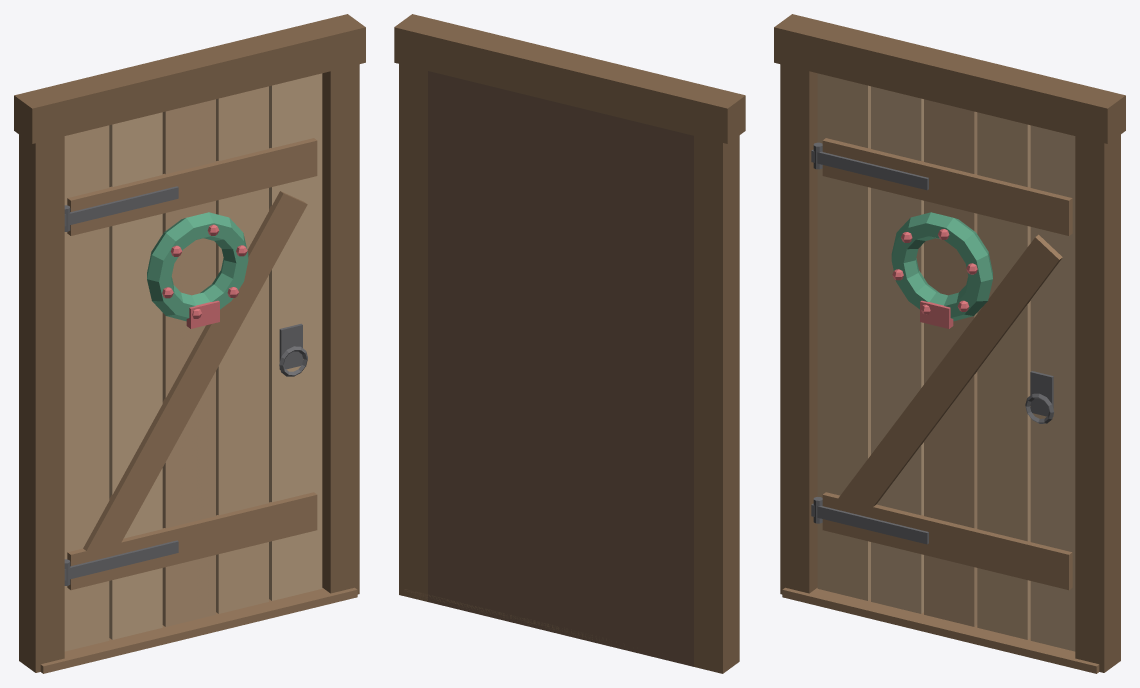
The model's file is prop_door.glb.
The picture shows the model from 3 angles, left to right: view 1: azimuth 30°, elevation 25°; view 2: azimuth 150°, elevation 25°; view 3: azimuth 330°, elevation 25°; orthographic projection.
Visible parts, largest first — view 1: Jamb.-1, Plank.1, Plank.0, Ledge.0.28, Plank.2, Wreath, Hinge strap.0.33, Wreath berry.0; view 2: Door shadow, Jamb.-1, Ledge.0.28; view 3: Jamb.-1, Plank.0, Plank.1, Ledge.0.28, Plank.2, Wreath, Hinge strap.0.33, Wreath berry.0.
Part boxes in pixels (x1,y1,x2,y2): Jamb.-1: (14,14,365,672); Plank.1: (109,73,322,639); Plank.0: (64,86,268,651); Ledge.0.28: (40,138,357,673); Plank.2: (162,99,215,626); Wreath: (147,212,248,321); Hinge strap.0.33: (64,186,307,585); Wreath berry.0: (162,224,247,328); Door shadow: (428,71,693,666); Jamb.-1: (394,14,745,673); Ledge.0.28: (404,589,624,645); Jamb.-1: (774,14,1125,672); Plank.0: (817,73,1030,639); Plank.1: (871,86,1075,651); Ledge.0.28: (782,138,1099,673); Plank.2: (924,99,977,626); Wreath: (891,212,992,321); Hinge strap.0.33: (811,142,1054,544); Wreath berry.0: (892,229,977,328).
Size of the model in its own units: 1.38 by 2.24 by 0.192.
